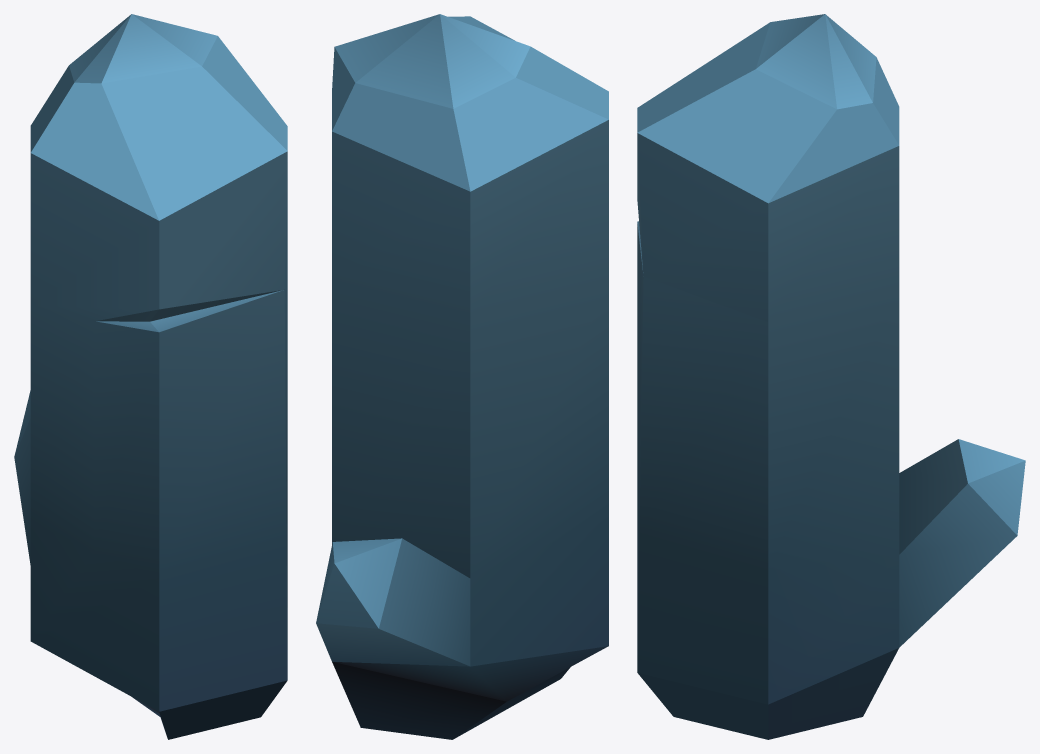
File: geology-crystals-icecrystal_v4.fbx
3 views of the same model, side by side, from view 1: azimuth 30°, elevation 25°; view 2: azimuth 150°, elevation 25°; view 3: azimuth 270°, elevation 25° (orthographic). The views are drawn at different scales.
Visible parts, largest first — view 1: IceCrystal_v4; view 2: IceCrystal_v4; view 3: IceCrystal_v4.
Part boxes in pixels (x1=…): IceCrystal_v4: x1=14, y1=14, x2=287, y2=739; IceCrystal_v4: x1=316, y1=14, x2=608, y2=739; IceCrystal_v4: x1=637, y1=14, x2=1025, y2=739.
Bounding box in the file's own units: 2.74 × 7.03 × 3.51.
